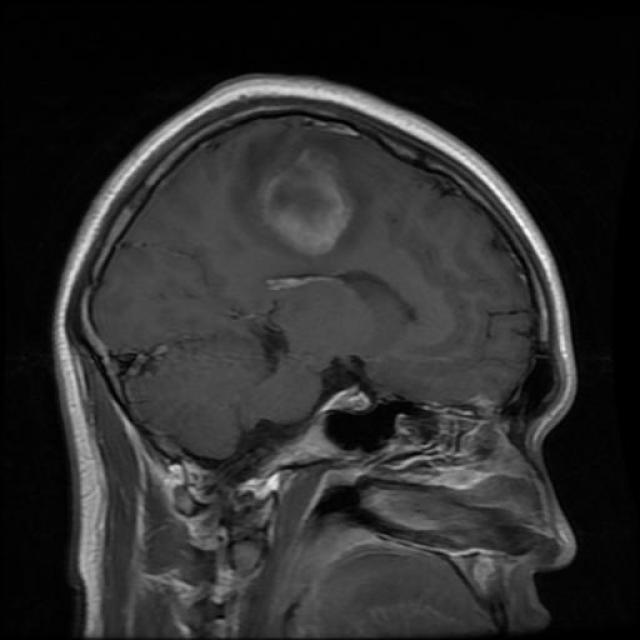glioma: (261, 144, 359, 258)
